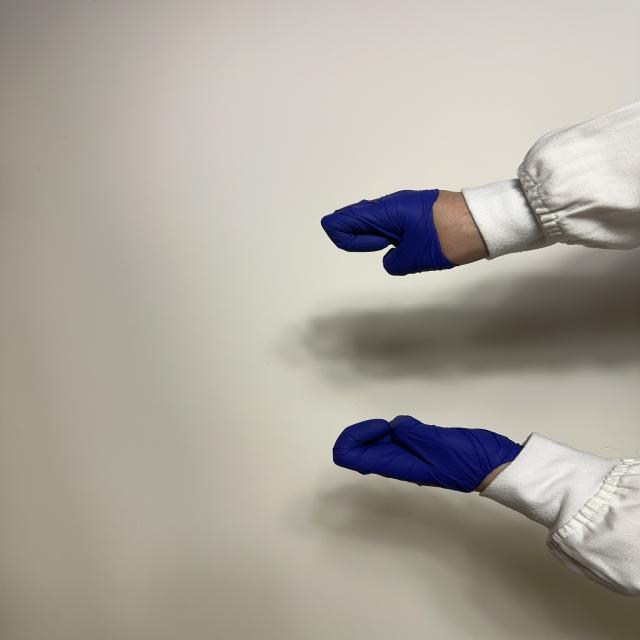glove_not_fitted: (313, 188, 501, 276), (330, 415, 537, 493)
